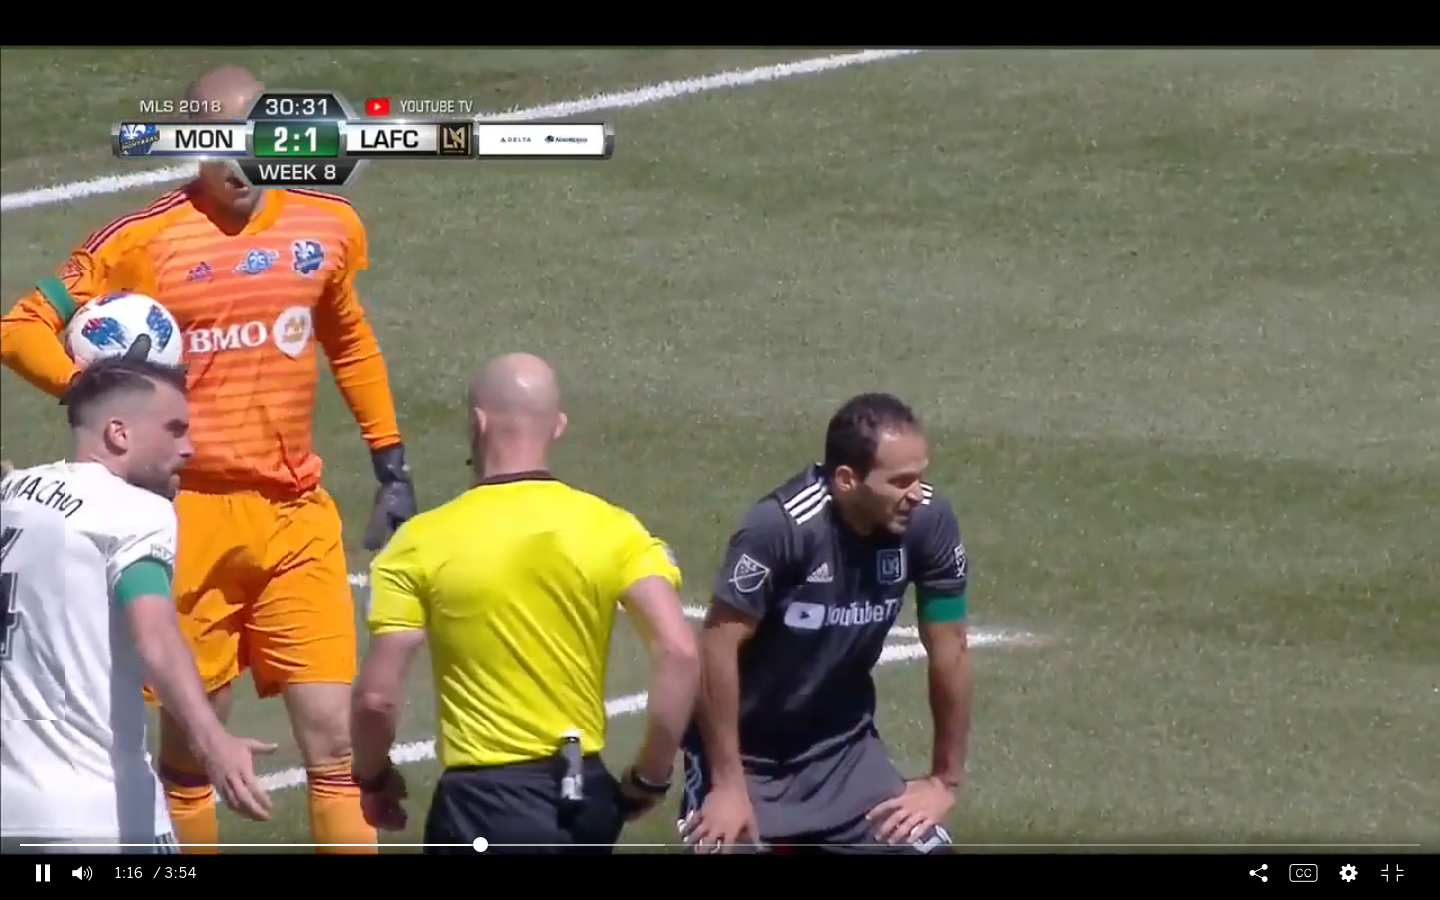referee: (344, 346, 702, 845)
soccer player: (1, 75, 413, 852), (676, 385, 976, 842), (1, 354, 275, 847)
soccerball: (56, 288, 188, 380)
